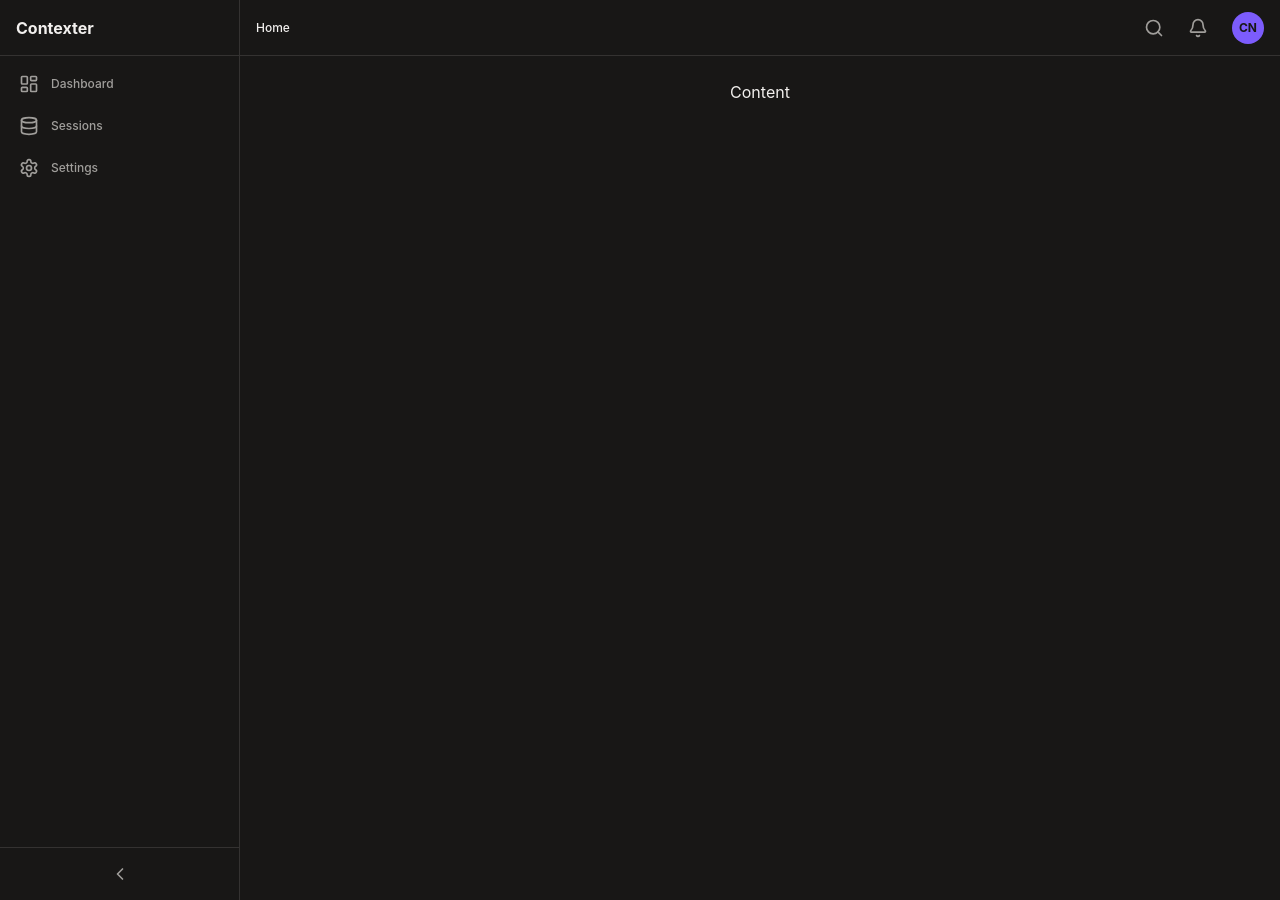
Test case: AppShell › toggles sidebar collapse via context
Note: Click to collapse
Step 1. Click the button named "Collapse sidebar" → [120, 874], box [8,856,231,892]
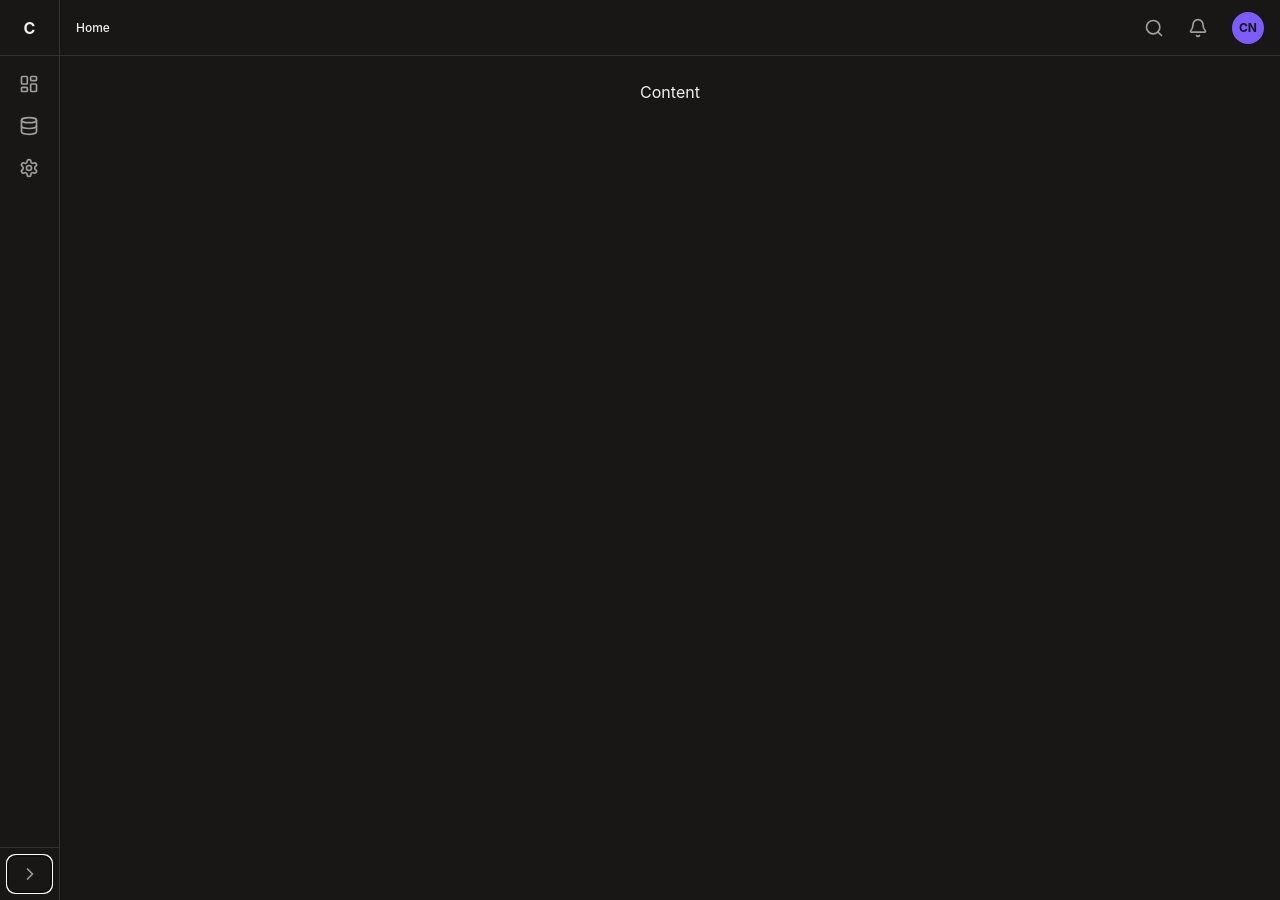
Expected: the button named "Expand sidebar" is shown, [8,856,51,892]
